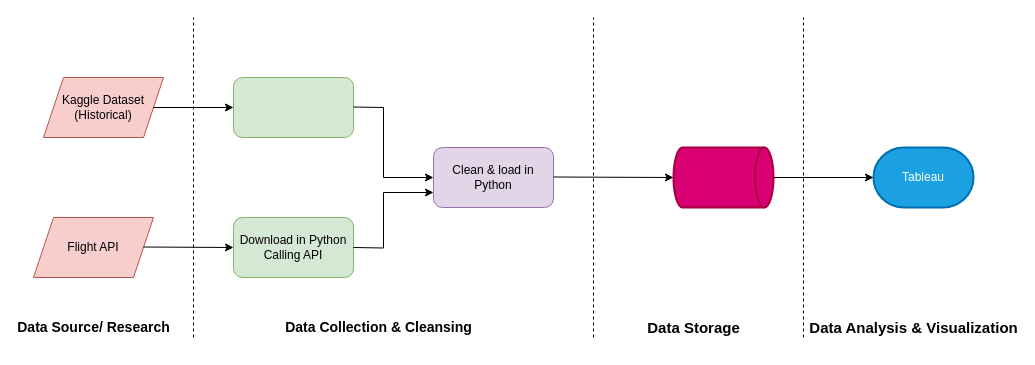
The diagram is 1035 pixels wide and 365 high, and some of its shapes have lost their labels. Each missing label, with the centre of its shape:
"Download in system" belongs at (x=293, y=107).
"SQLServer Database" belongs at (x=723, y=177).
